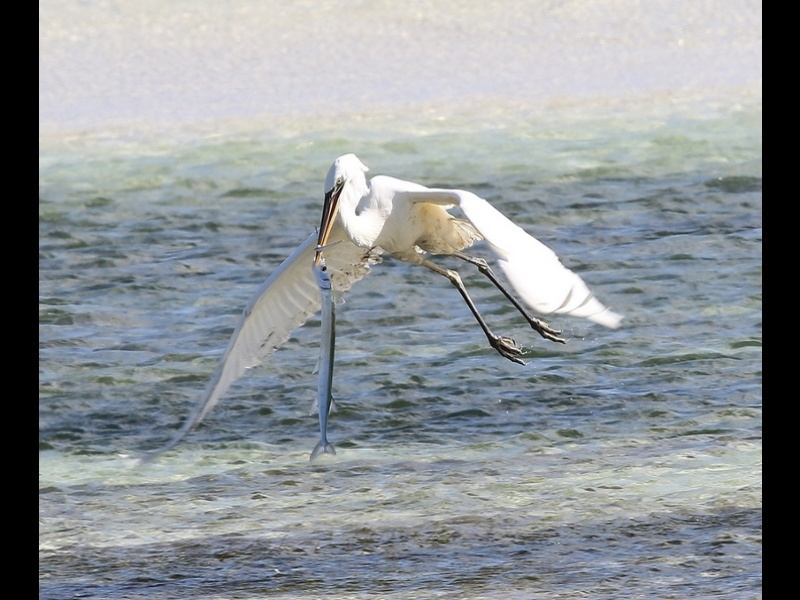heron: (155, 152, 622, 459)
